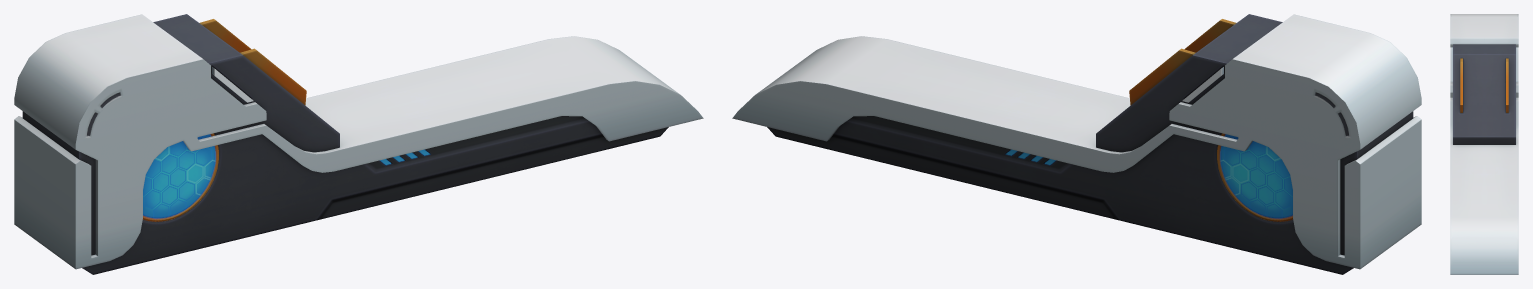
The model's file is mesh_1002_yjy_sd003.FBX.
The picture shows the model from 3 angles, left to right: view 1: azimuth 30°, elevation 25°; view 2: azimuth 150°, elevation 25°; view 3: azimuth 270°, elevation 25°; orthographic projection. The views are drawn at different scales.
Visible parts, largest first — view 1: mesh_1002_yjy_sd003; view 2: mesh_1002_yjy_sd003; view 3: mesh_1002_yjy_sd003.
Part boxes in pixels (left/top/right/bottom): mesh_1002_yjy_sd003: left=14, top=14, right=703, bottom=274; mesh_1002_yjy_sd003: left=732, top=14, right=1421, bottom=274; mesh_1002_yjy_sd003: left=1450, top=14, right=1518, bottom=274.
Size of the model in its own units: 470 by 137 by 79.73.
